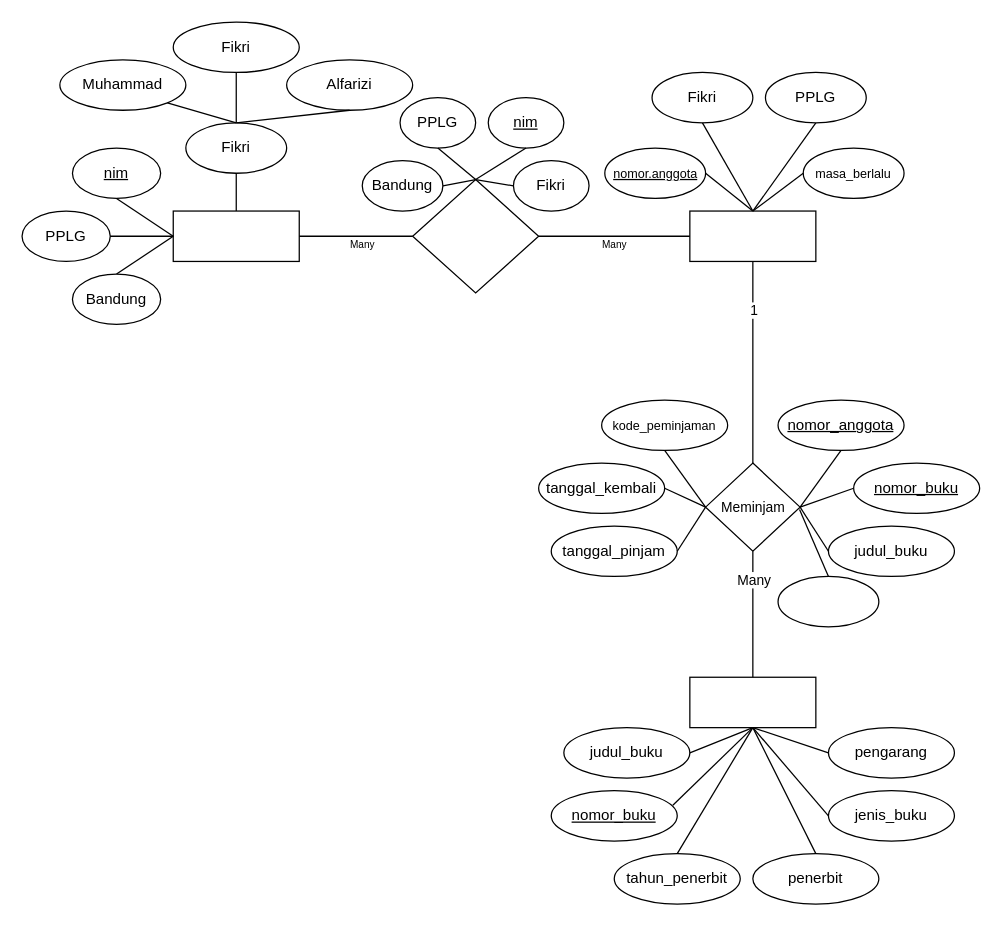
The diagram is 1002 pixels wide and 926 high, and some of its shapes have lost their labels. Each missing label, with the box of its shape:
Anggota Perpustakaan: (689, 210, 816, 261)
Buku: (689, 676, 816, 728)
denda: (777, 575, 879, 627)
Mendaftar: (411, 178, 539, 293)
Siswa: (172, 210, 299, 261)
